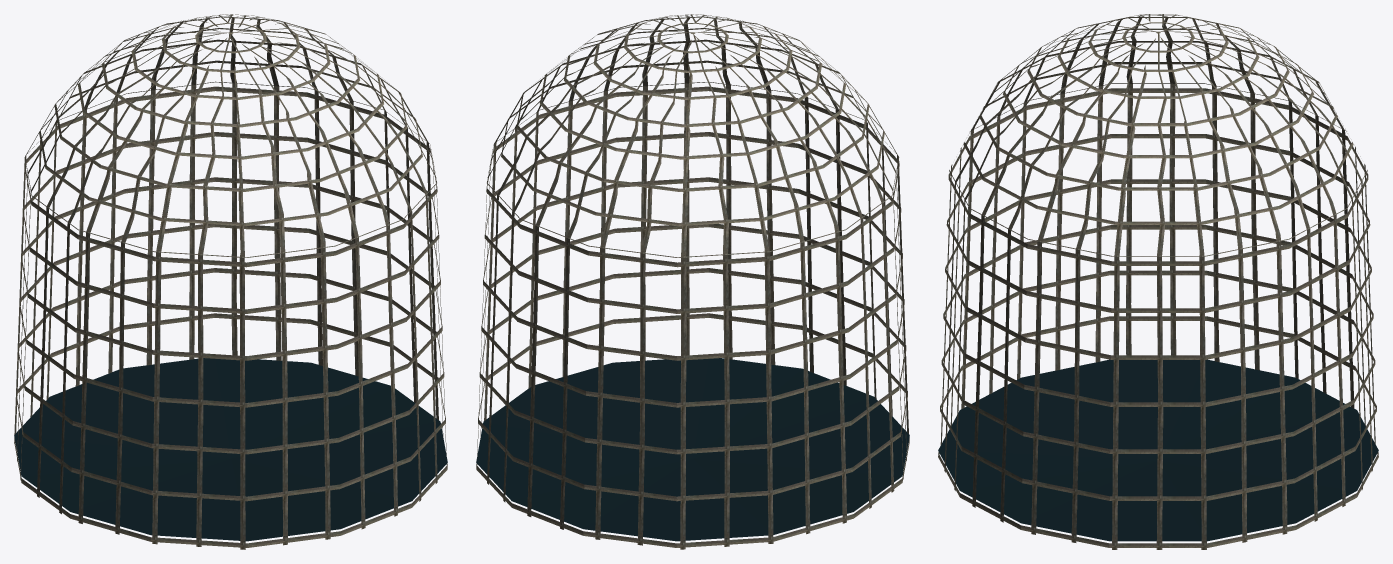
Rendered from birdcage.glb.
3 views of the same model, side by side, from view 1: azimuth 30°, elevation 25°; view 2: azimuth 150°, elevation 25°; view 3: azimuth 270°, elevation 25° (orthographic).
Visible parts, largest first — view 1: cage, base; view 2: cage, base; view 3: cage, base.
Boxes of the visible parts, box(x1,y1,x2,y2) form: cage: box(14, 14, 447, 549); base: box(14, 358, 447, 541); cage: box(476, 14, 909, 549); base: box(476, 358, 909, 541); cage: box(938, 14, 1378, 549); base: box(938, 359, 1378, 541).
Bounding box in the file's own units: 8.84 × 9.72 × 9.07.
Materials: 2 (1 with a texture image).
